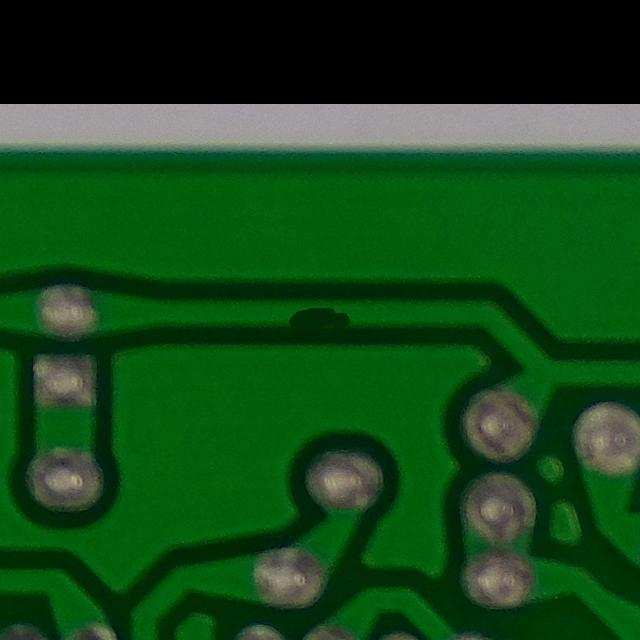mouse_bite: (259, 281, 381, 359)
